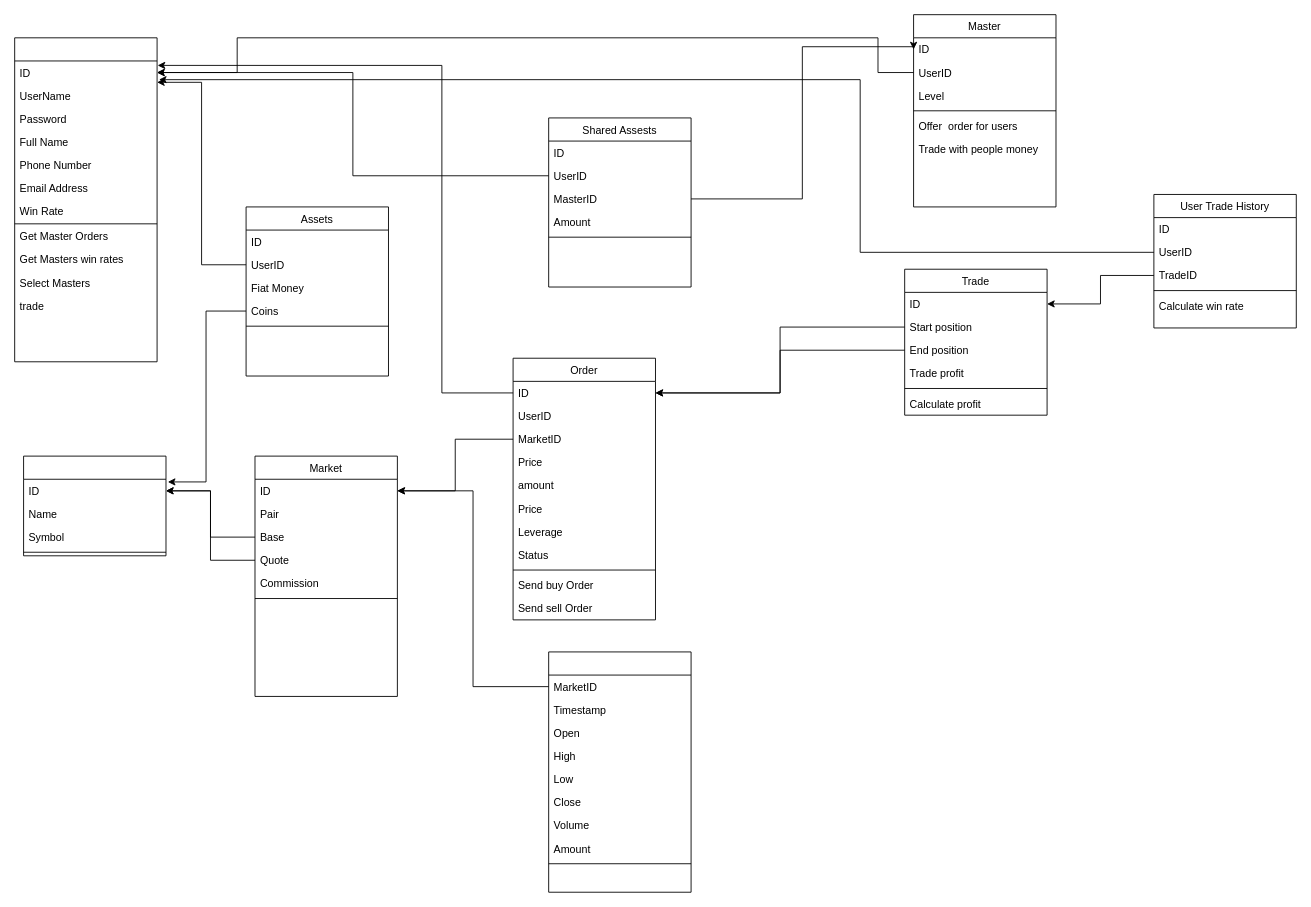
This 1311x907 diagram has some shape labels left out. Here are the shapes that lost their labels. From the top down, the box of each, then its label:
(14, 37, 157, 362): User (Slave)
(23, 455, 166, 556): Coin
(548, 651, 691, 892): Market historical data
